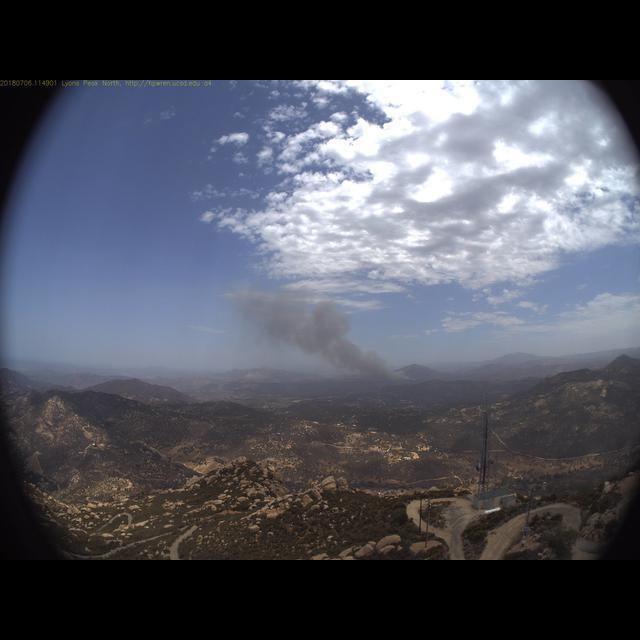Smoke: (221, 280, 415, 398)
